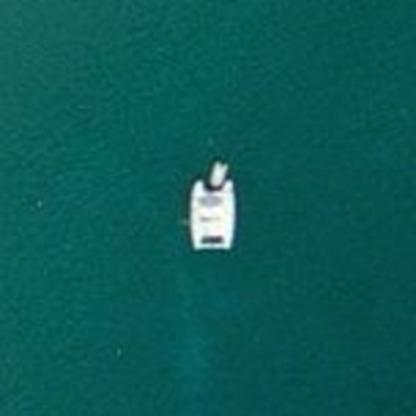ship: (174, 145, 248, 266)
